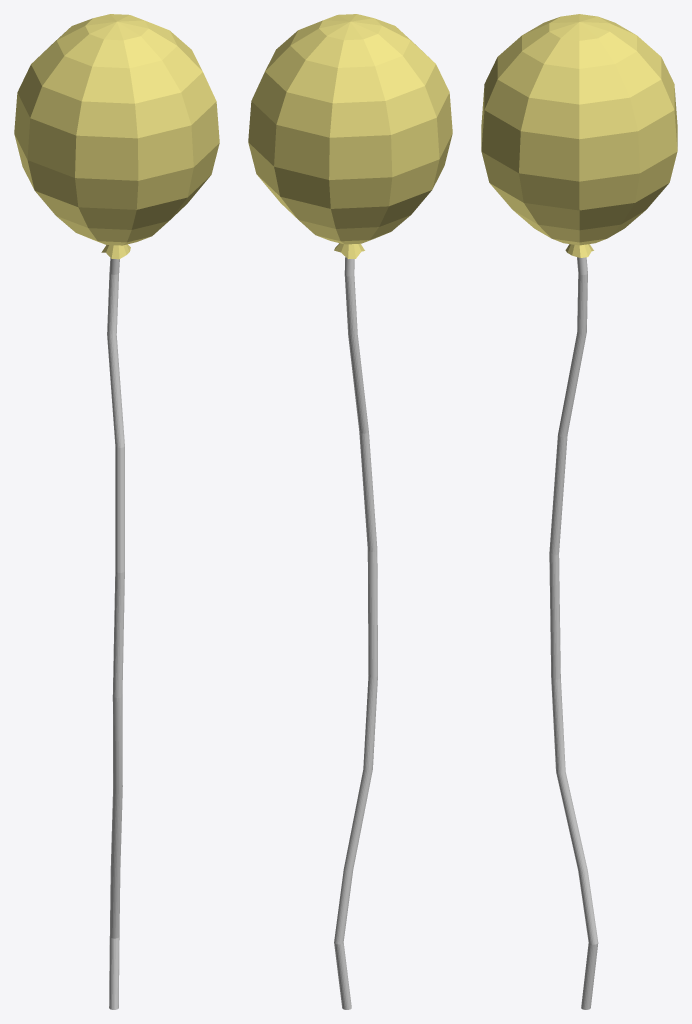
File: baloon1.fbx
The picture shows the model from 3 angles, left to right: view 1: azimuth 30°, elevation 25°; view 2: azimuth 150°, elevation 25°; view 3: azimuth 270°, elevation 25°; orthographic projection.
Parts seen in each view (by area): view 1: string1.001; view 2: string1.001; view 3: string1.001.
Boxes of the visible parts, x1,y1,x2,y2 form: string1.001: (14, 14, 219, 1009); string1.001: (248, 14, 452, 1009); string1.001: (481, 14, 677, 1009).
Bounding box in the file's own units: 45.13 × 238 × 42.92.
